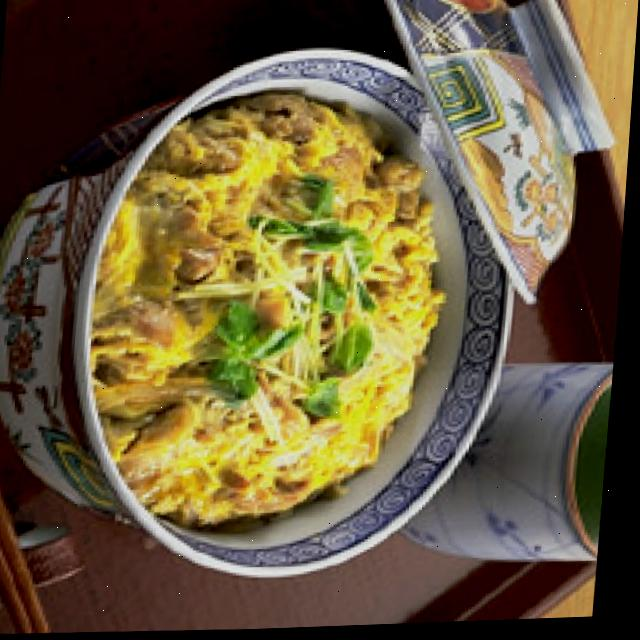米饭主食: (0, 35, 532, 615)
